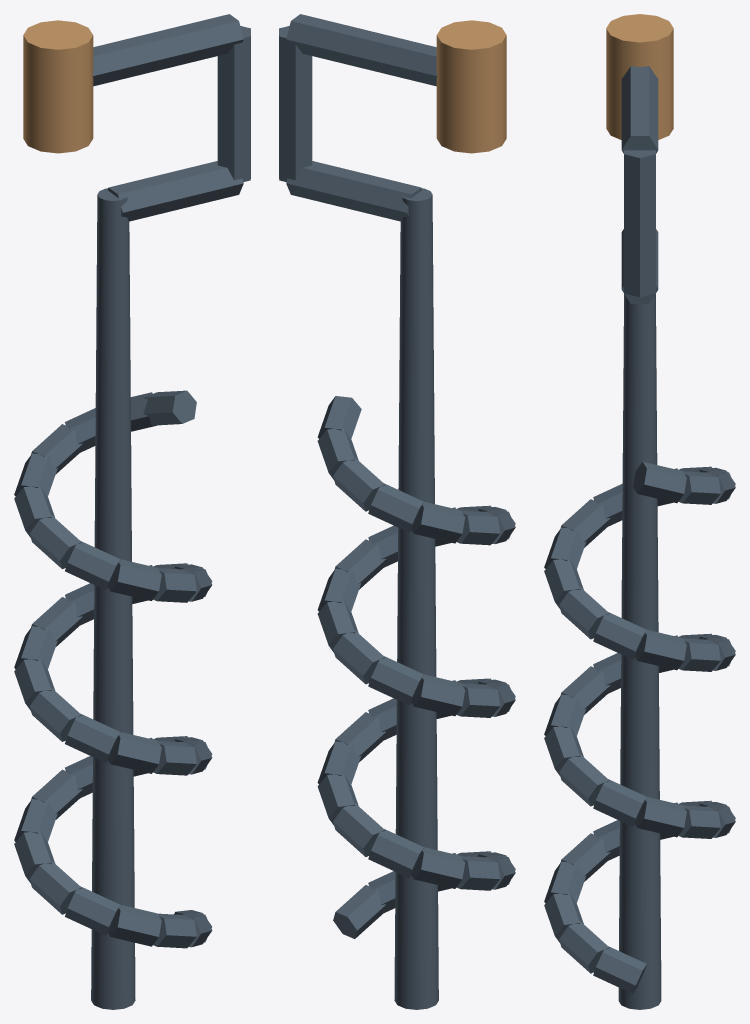
Rendered from alpine-snow-village-hand-crank-ice-auger-5a8358d9__19821.glb.
3 renders of one model, left to right at view 1: azimuth 30°, elevation 25°; view 2: azimuth 150°, elevation 25°; view 3: azimuth 270°, elevation 25°, orthographic. The views are drawn at different scales.
Parts seen in each view (by area): view 1: hand-crank-ice-auger-iron, hand-crank-ice-auger-oak; view 2: hand-crank-ice-auger-iron, hand-crank-ice-auger-oak; view 3: hand-crank-ice-auger-iron, hand-crank-ice-auger-oak.
Part boxes in pixels (bbox=[...]): hand-crank-ice-auger-iron: bbox=[14, 14, 250, 1009]; hand-crank-ice-auger-oak: bbox=[23, 20, 93, 153]; hand-crank-ice-auger-iron: bbox=[279, 14, 515, 1009]; hand-crank-ice-auger-oak: bbox=[436, 20, 506, 153]; hand-crank-ice-auger-iron: bbox=[544, 66, 735, 1009]; hand-crank-ice-auger-oak: bbox=[606, 14, 673, 139].
Size of the model in its own units: 0.4061 by 1.7 by 0.3121.
